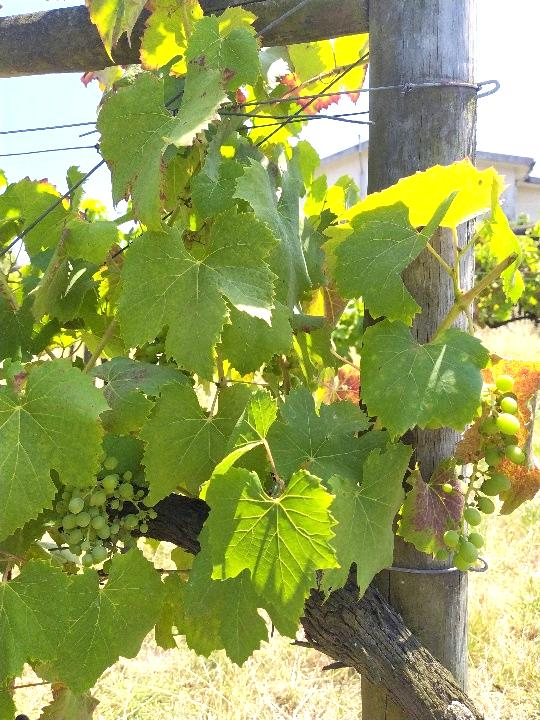grape: (438, 374, 528, 571), (52, 453, 158, 578)
